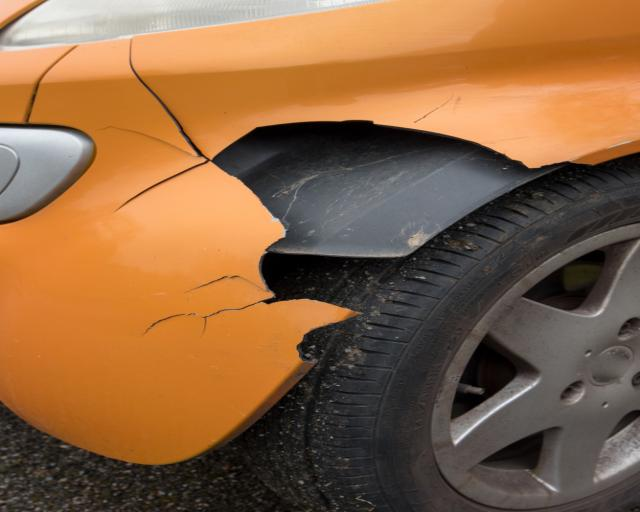crack: (96, 37, 212, 214), (139, 275, 279, 337), (409, 94, 453, 125)
